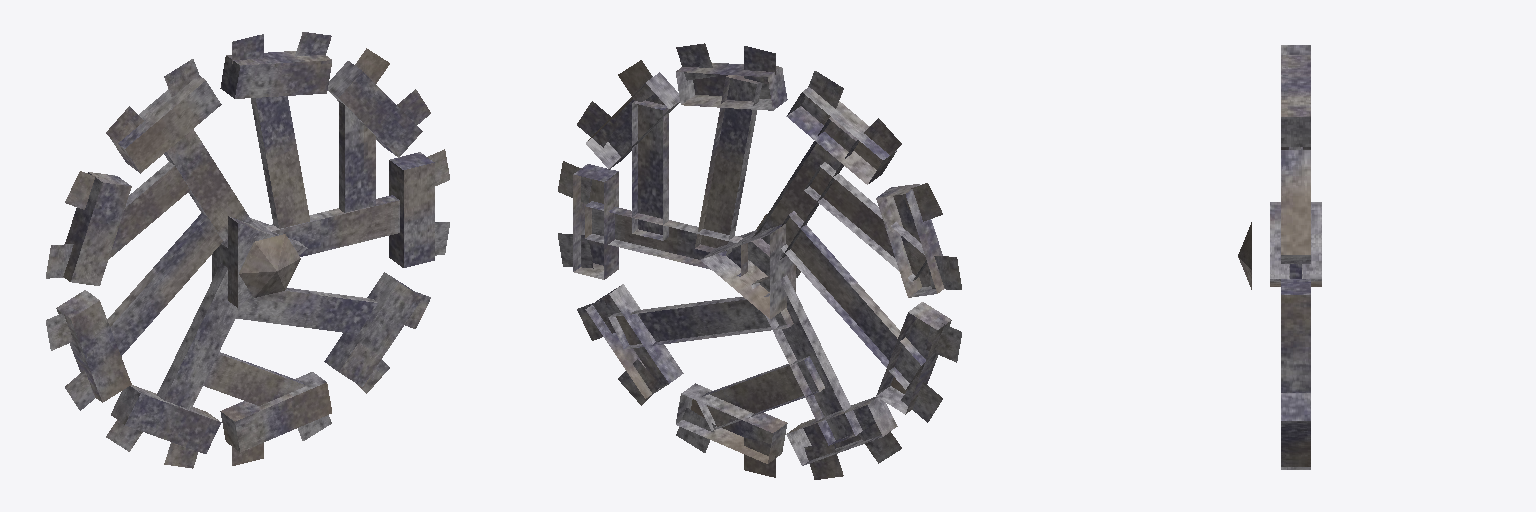
3 renders of one model, left to right at view 1: azimuth 30°, elevation 25°; view 2: azimuth 150°, elevation 25°; view 3: azimuth 270°, elevation 25°, orthographic.
Parts seen in each view (by area): view 1: Plane; view 2: Plane; view 3: Plane.
Boxes of the visible parts, x1,y1,x2,y2 form: Plane: [46, 32, 449, 468]; Plane: [558, 43, 961, 479]; Plane: [1238, 45, 1321, 469].
Bounding box in the file's own units: 3.22 × 3.22 × 0.58.
1 materials, 1 textured.